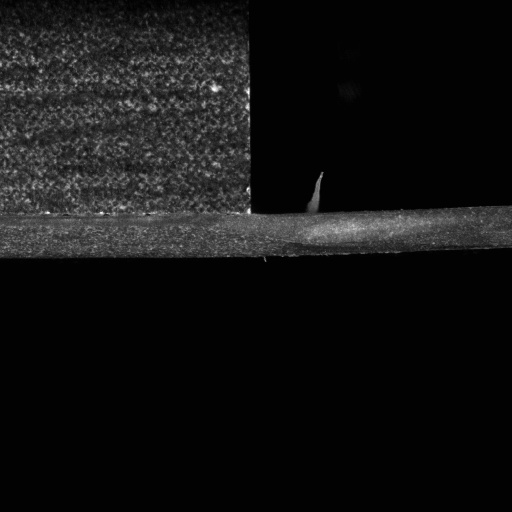changdai: (245, 203, 511, 259)
